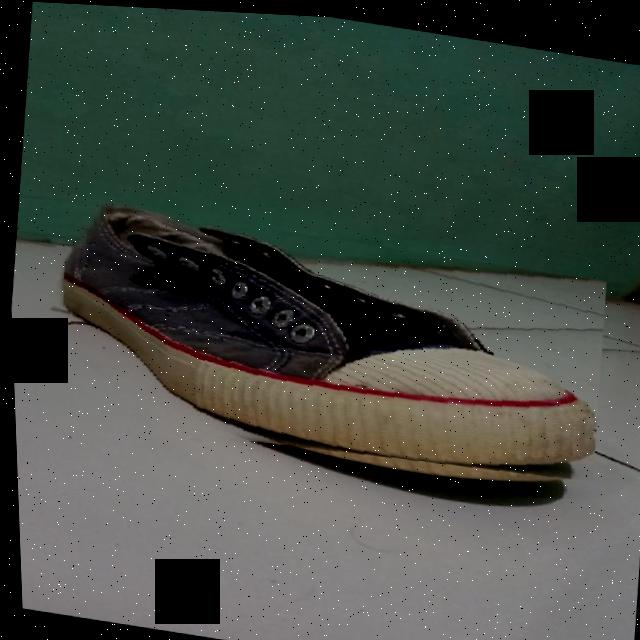shoe: (36, 195, 610, 496)
